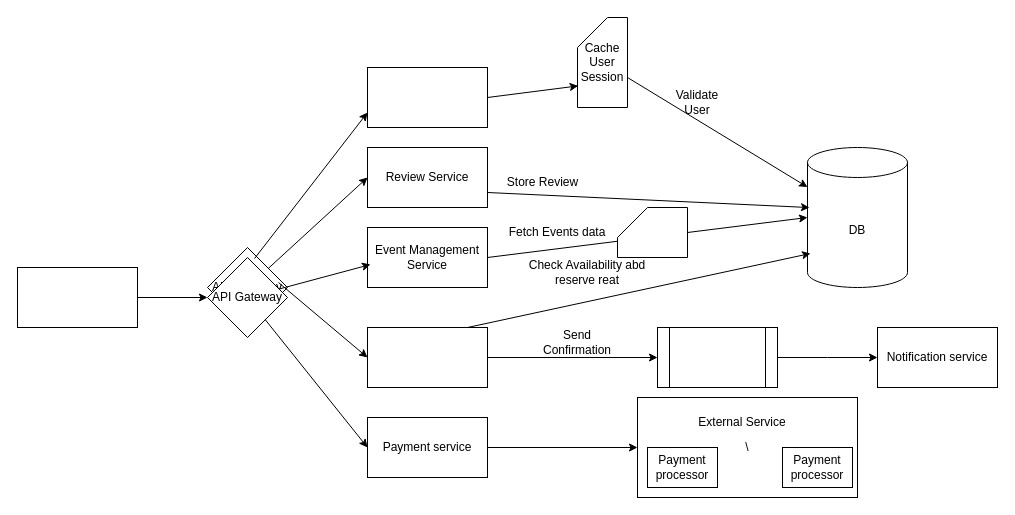
Some shapes in this 1015 by 515 pixel diagram are drawn without their labels. The shapes that lost their labels are listed below. From the top down, each one's centre as x and y in pixels, then its label:
At pixel 427 97: "Authentication service".
At pixel 652 232: "Event Data Cache".
At pixel 77 297: "Web Application".
At pixel 427 357: "Booking service".
At pixel 717 357: "Messaging queue".
